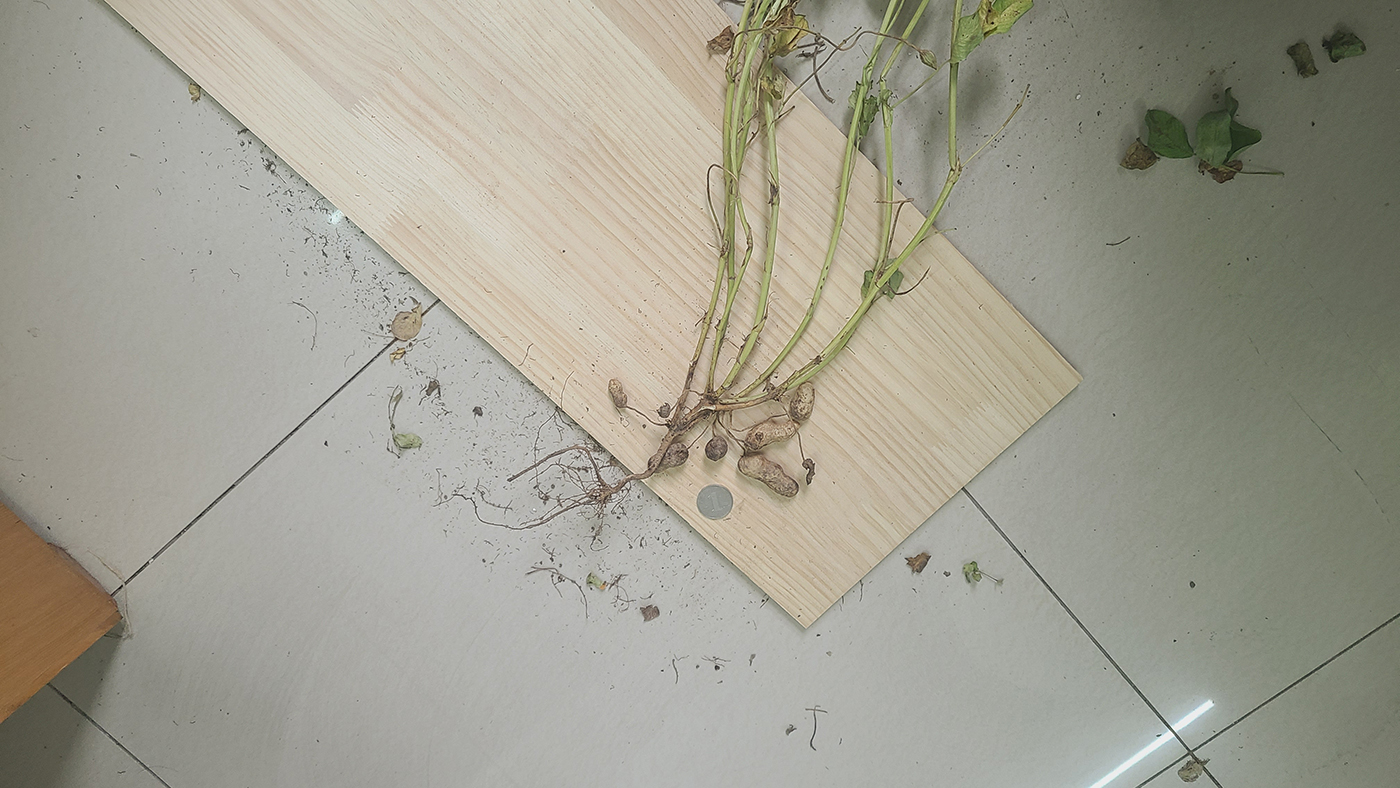h: (790, 381, 816, 424)
l: (737, 454, 799, 497), (743, 421, 801, 451), (648, 443, 689, 474), (705, 434, 729, 462), (608, 379, 628, 408), (802, 459, 816, 486), (657, 402, 671, 419)
